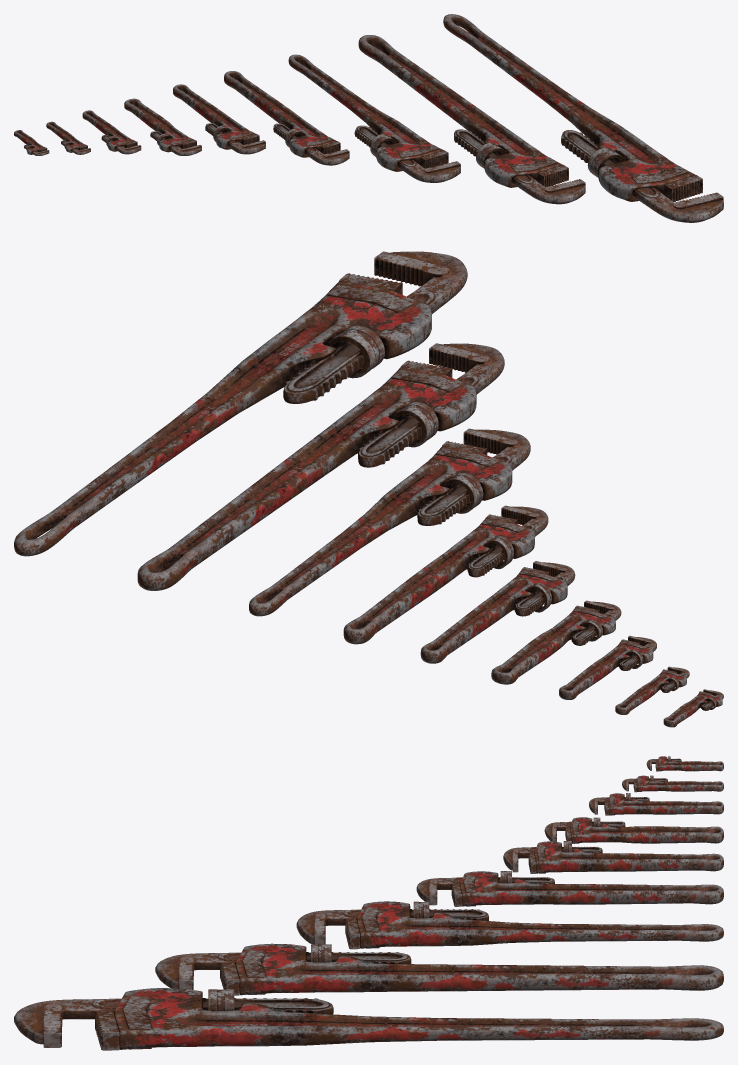
The model's file is SM_Cles_A_Tuyau.glb.
3 views of the same model, one above another, from view 1: azimuth 30°, elevation 25°; view 2: azimuth 150°, elevation 25°; view 3: azimuth 270°, elevation 25° (orthographic). The views are drawn at different scales.
Parts seen in each view (by area): view 1: SM_Cle_A_Tuyau_60po, SM_Cle_A_Tuyau_48po, SM_Cle_A_Tuyau_36po, SM_Cle_A_Tuyau_24po, SM_Cle_A_Tuyau_18po, SM_Cle_A_Tuyau_14po, SM_Cle_A_Tuyau_10po, SM_Cle_A_Tuyau_08po, SM_Cle_A_Tuyau_06po; view 2: SM_Cle_A_Tuyau_60po, SM_Cle_A_Tuyau_48po, SM_Cle_A_Tuyau_36po, SM_Cle_A_Tuyau_24po, SM_Cle_A_Tuyau_18po, SM_Cle_A_Tuyau_14po, SM_Cle_A_Tuyau_10po, SM_Cle_A_Tuyau_08po, SM_Cle_A_Tuyau_06po; view 3: SM_Cle_A_Tuyau_60po, SM_Cle_A_Tuyau_48po, SM_Cle_A_Tuyau_36po, SM_Cle_A_Tuyau_24po, SM_Cle_A_Tuyau_18po, SM_Cle_A_Tuyau_14po, SM_Cle_A_Tuyau_10po, SM_Cle_A_Tuyau_08po, SM_Cle_A_Tuyau_06po.
Boxes of the visible parts, <box> form: SM_Cle_A_Tuyau_60po: <box>443,14,723,222</box>; SM_Cle_A_Tuyau_48po: <box>358,35,585,204</box>; SM_Cle_A_Tuyau_36po: <box>288,54,460,182</box>; SM_Cle_A_Tuyau_24po: <box>224,71,349,165</box>; SM_Cle_A_Tuyau_18po: <box>173,84,265,154</box>; SM_Cle_A_Tuyau_14po: <box>124,98,201,155</box>; SM_Cle_A_Tuyau_10po: <box>82,110,141,154</box>; SM_Cle_A_Tuyau_08po: <box>46,121,90,154</box>; SM_Cle_A_Tuyau_06po: <box>14,130,49,155</box>; SM_Cle_A_Tuyau_60po: <box>14,251,467,556</box>; SM_Cle_A_Tuyau_48po: <box>137,343,504,590</box>; SM_Cle_A_Tuyau_36po: <box>249,428,530,616</box>; SM_Cle_A_Tuyau_24po: <box>343,505,548,644</box>; SM_Cle_A_Tuyau_18po: <box>420,561,575,663</box>; SM_Cle_A_Tuyau_14po: <box>491,600,621,684</box>; SM_Cle_A_Tuyau_10po: <box>559,635,656,699</box>; SM_Cle_A_Tuyau_08po: <box>615,666,689,714</box>; SM_Cle_A_Tuyau_06po: <box>663,689,723,727</box>; SM_Cle_A_Tuyau_60po: <box>14,988,723,1050</box>; SM_Cle_A_Tuyau_48po: <box>155,943,723,995</box>; SM_Cle_A_Tuyau_36po: <box>296,901,723,949</box>; SM_Cle_A_Tuyau_24po: <box>416,871,723,906</box>; SM_Cle_A_Tuyau_18po: <box>503,841,723,873</box>; SM_Cle_A_Tuyau_14po: <box>544,817,723,843</box>; SM_Cle_A_Tuyau_10po: <box>589,793,723,815</box>; SM_Cle_A_Tuyau_08po: <box>622,775,723,792</box>; SM_Cle_A_Tuyau_06po: <box>646,756,723,771</box>.
Bounding box in the file's own units: 1.29 × 0.0718 × 1.31.
1 material, 1 textured.
